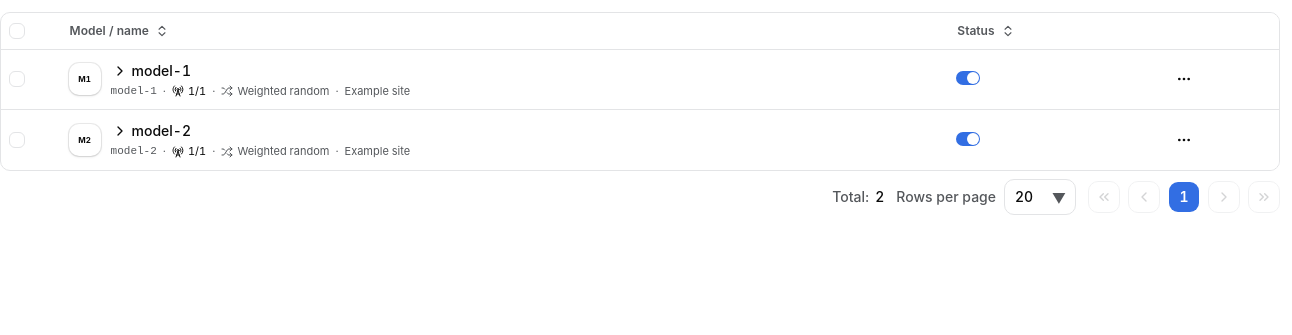
Scenario: route inline details › shows one semantic status per channel and keeps actions in the section header
Click the button "model-1" at (151, 70), box [111,60,192,82]
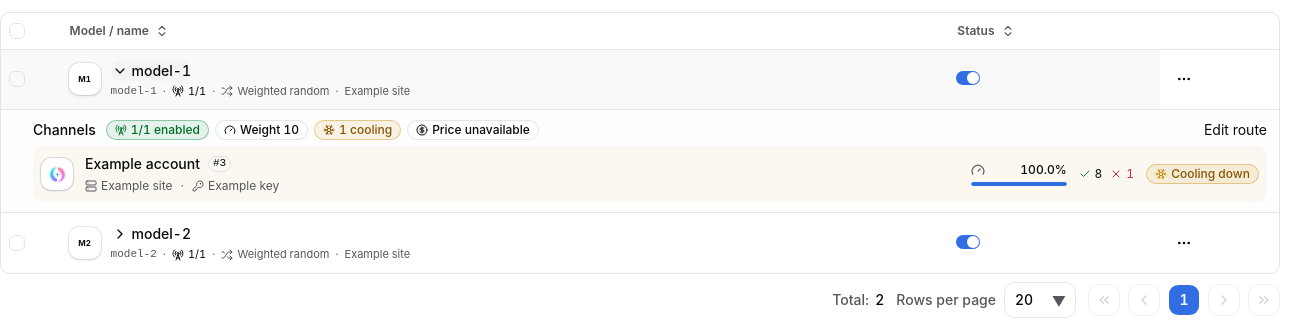
Expected: the text "Example account" is shown, [85,154,200,174]
Expected: the element with test id "channel-status" shows "Cooling", [1171,166,1250,181]
Expected: the button "Edit route" is shown, [1204,120,1267,140]
